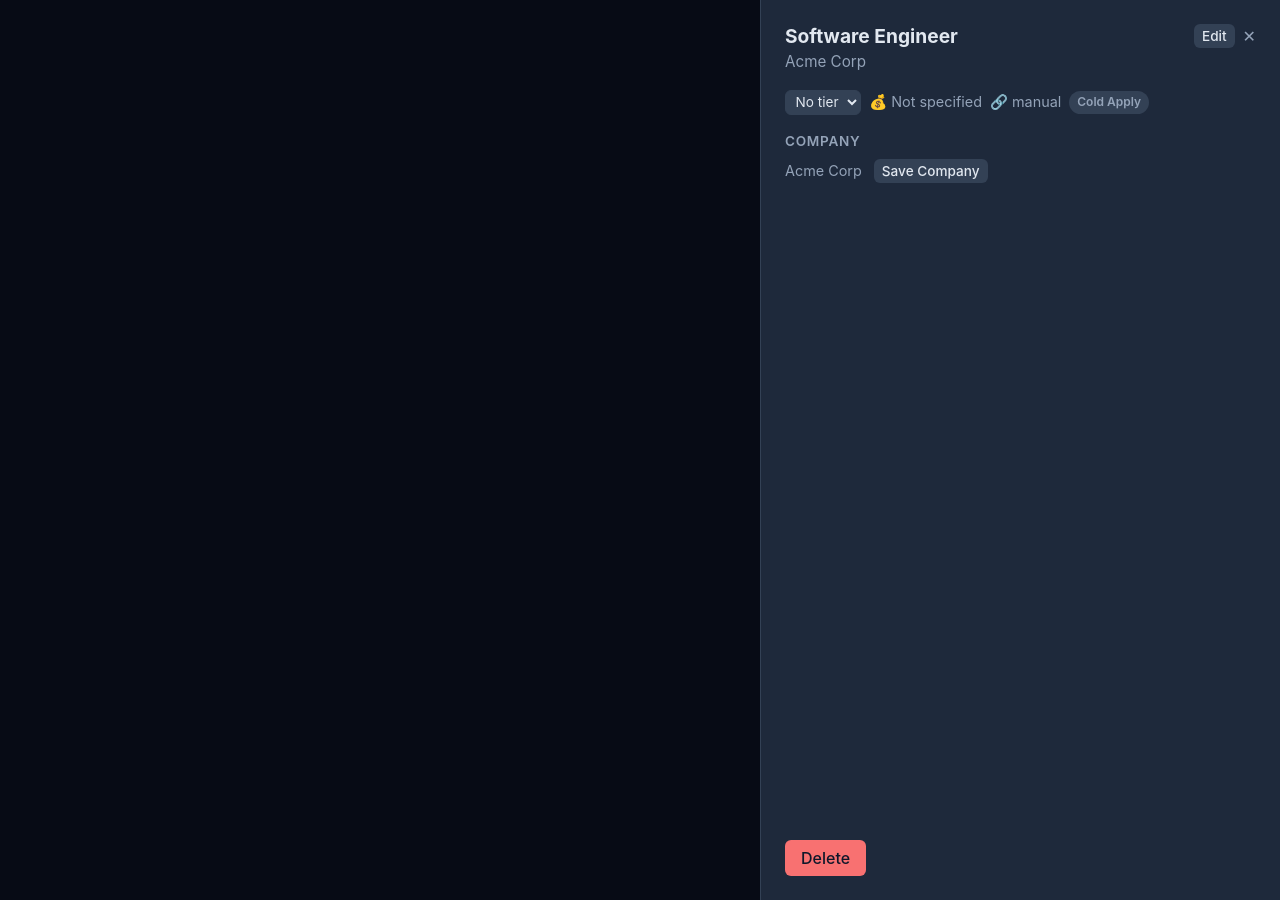
PostingDetailPanel — edit mode lead_source select › shows a Lead Source label in the edit form
Click the button "Edit".
click(1214, 36)  # box 1194,24 -> 1235,48
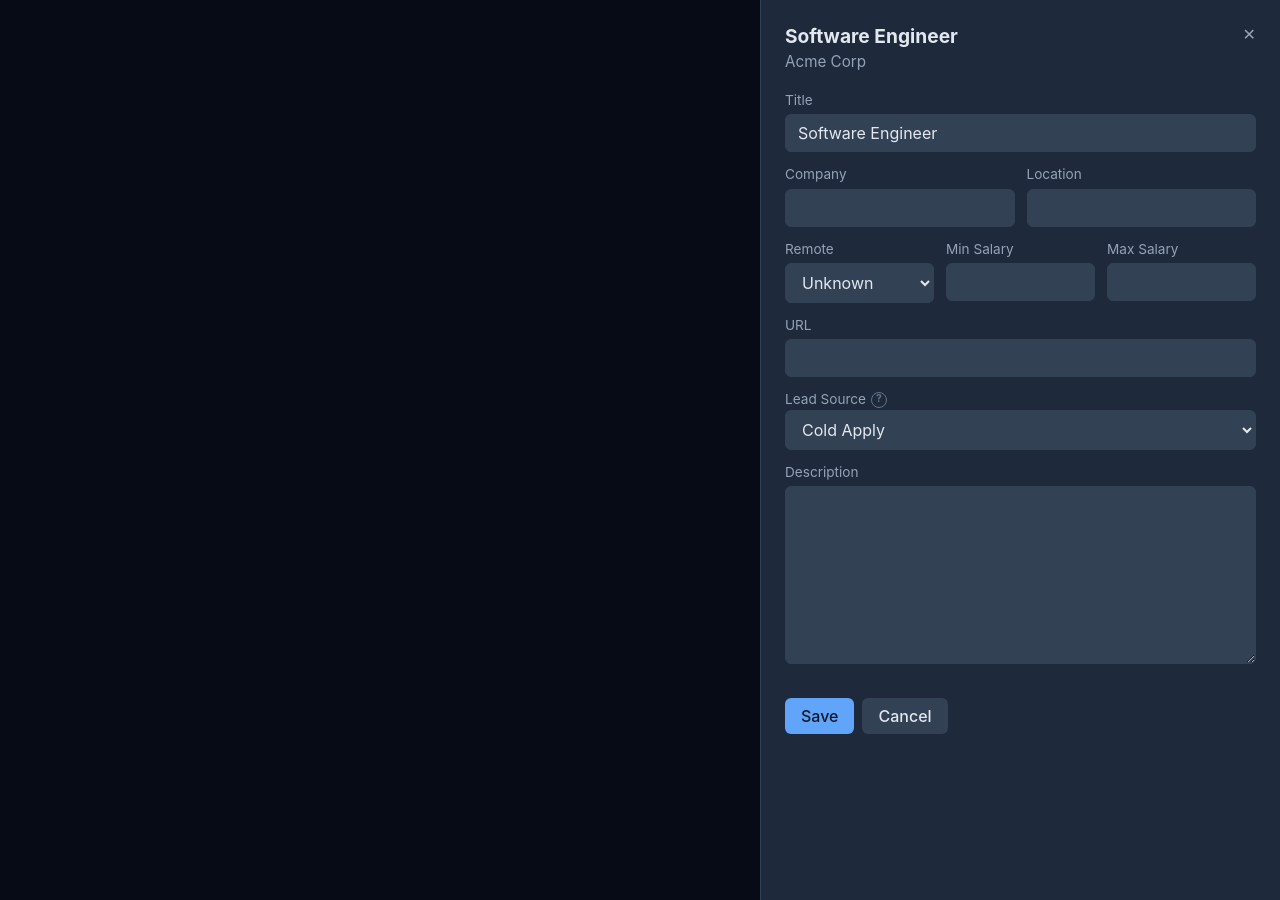
Check: the text "Lead Source" is shown, box 785,389 -> 866,410
